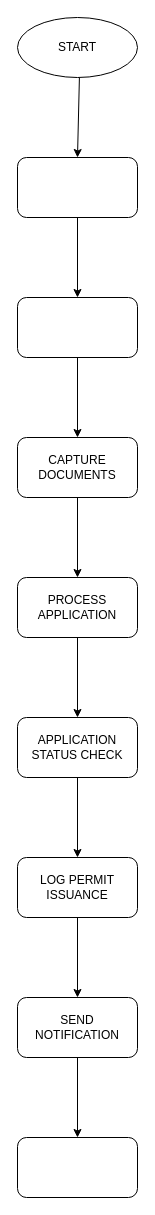
This 155x1215 diagram has some shape labels left out. The box of each missing label's shape, as (x1, y1, x2, y2) in pixels:
END: (16, 1136, 138, 1198)
INITIALIZE SYSTEM: (16, 156, 138, 218)
LOAD UI: (16, 296, 138, 358)
